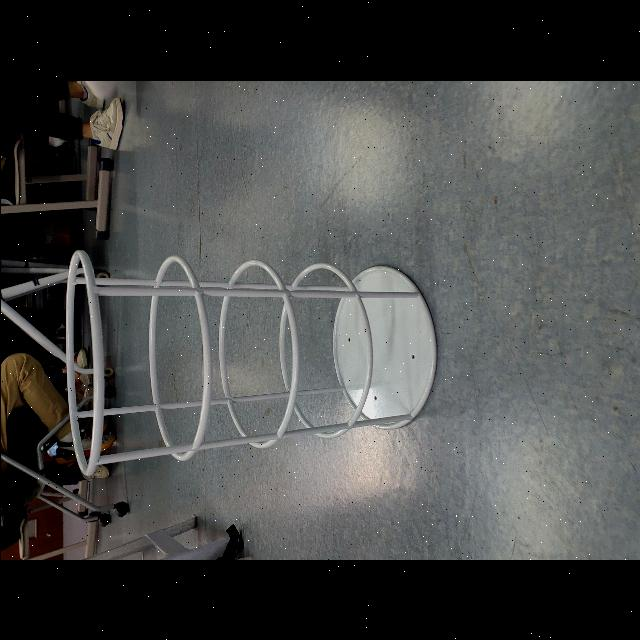S: (61, 240, 442, 482)
